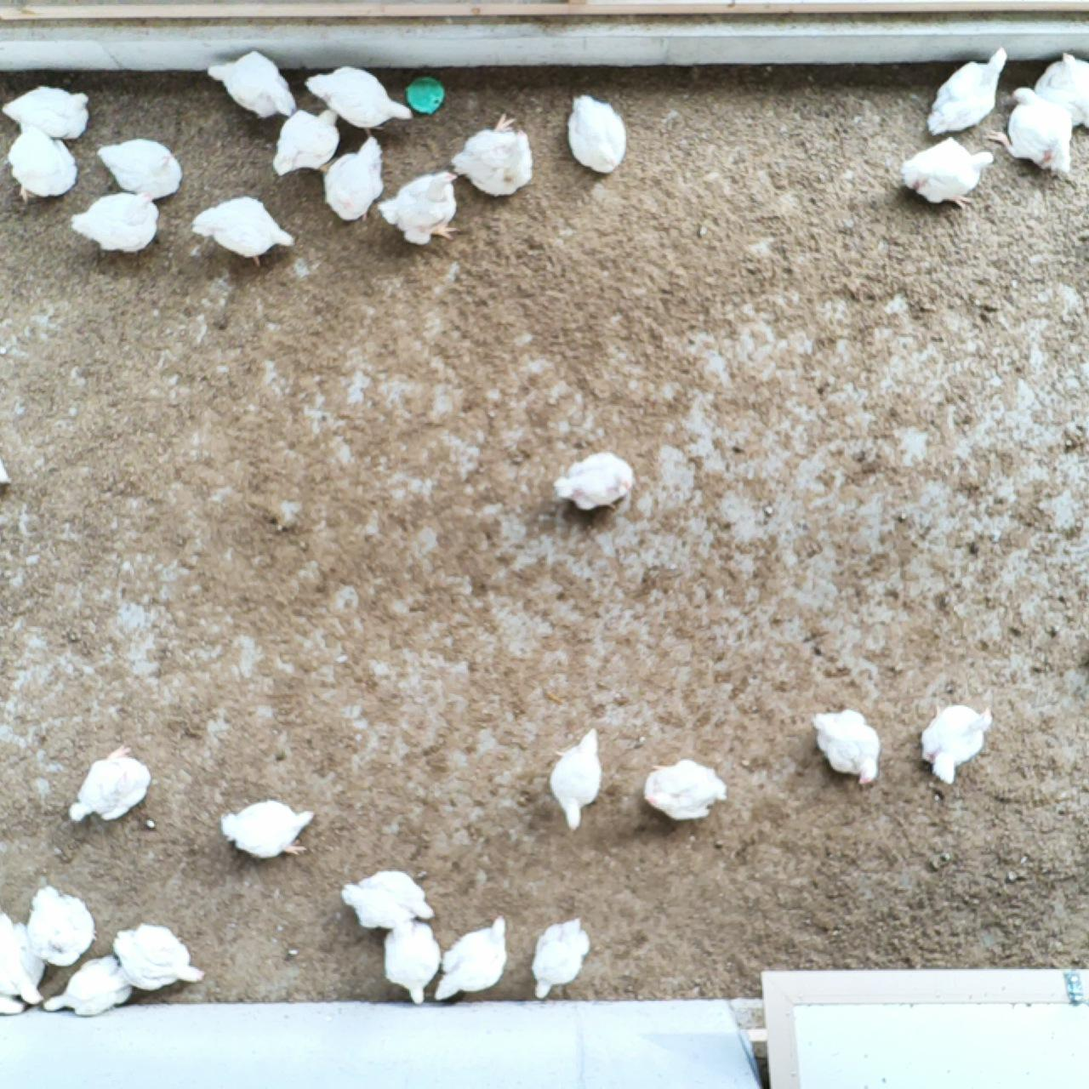chicken: (985, 82, 1079, 178), (923, 43, 1013, 142), (306, 60, 416, 137), (450, 107, 538, 199), (898, 132, 997, 213), (190, 195, 297, 267), (377, 162, 462, 249), (67, 744, 154, 827), (918, 697, 996, 787), (433, 914, 511, 1002), (110, 920, 208, 990), (7, 117, 83, 206), (219, 795, 317, 863), (809, 706, 887, 790), (24, 882, 98, 970), (548, 724, 608, 832), (206, 49, 298, 118), (70, 187, 162, 255), (42, 953, 133, 1019), (321, 135, 389, 223), (641, 755, 729, 822), (340, 868, 435, 930), (564, 88, 630, 177), (98, 135, 186, 200), (551, 448, 638, 513), (381, 913, 440, 1007), (1, 82, 91, 143), (529, 917, 592, 1003), (272, 107, 340, 177), (0, 913, 48, 1005), (1041, 48, 1089, 130)
